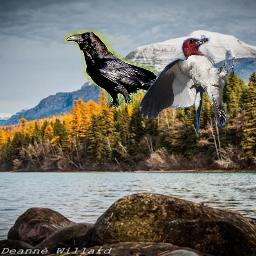Crow: (64, 30, 191, 108)
Woodpecker: (139, 35, 235, 132)
